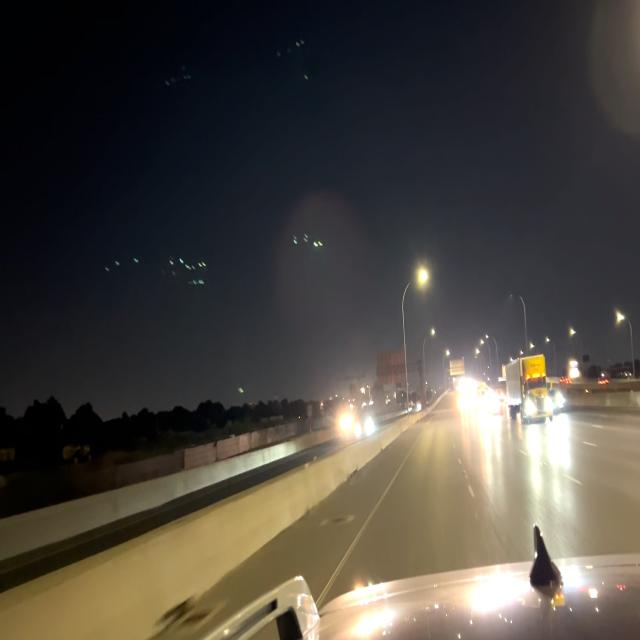back-of-sign: (374, 345, 408, 387)
